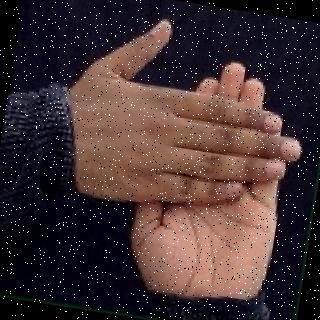H: (51, 2, 311, 294)
